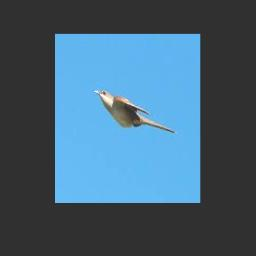Cuckoo: (94, 89, 176, 134)
